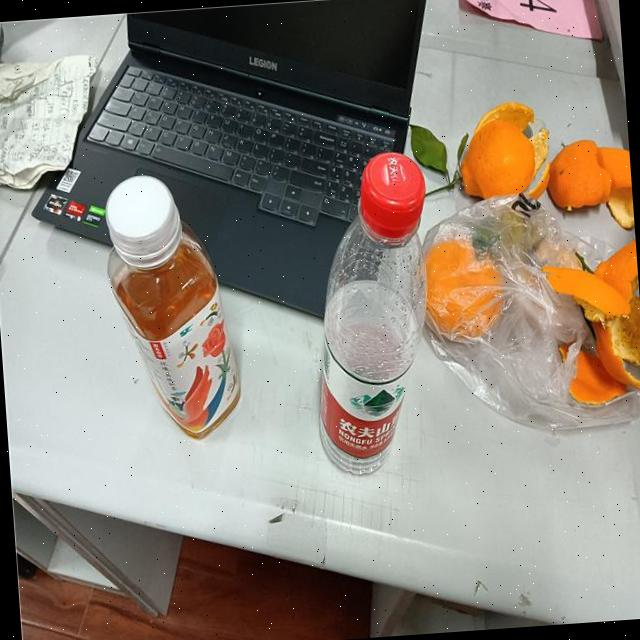orange-peel: (532, 230, 640, 416), (420, 92, 557, 222), (420, 243, 517, 361), (556, 100, 634, 240)
